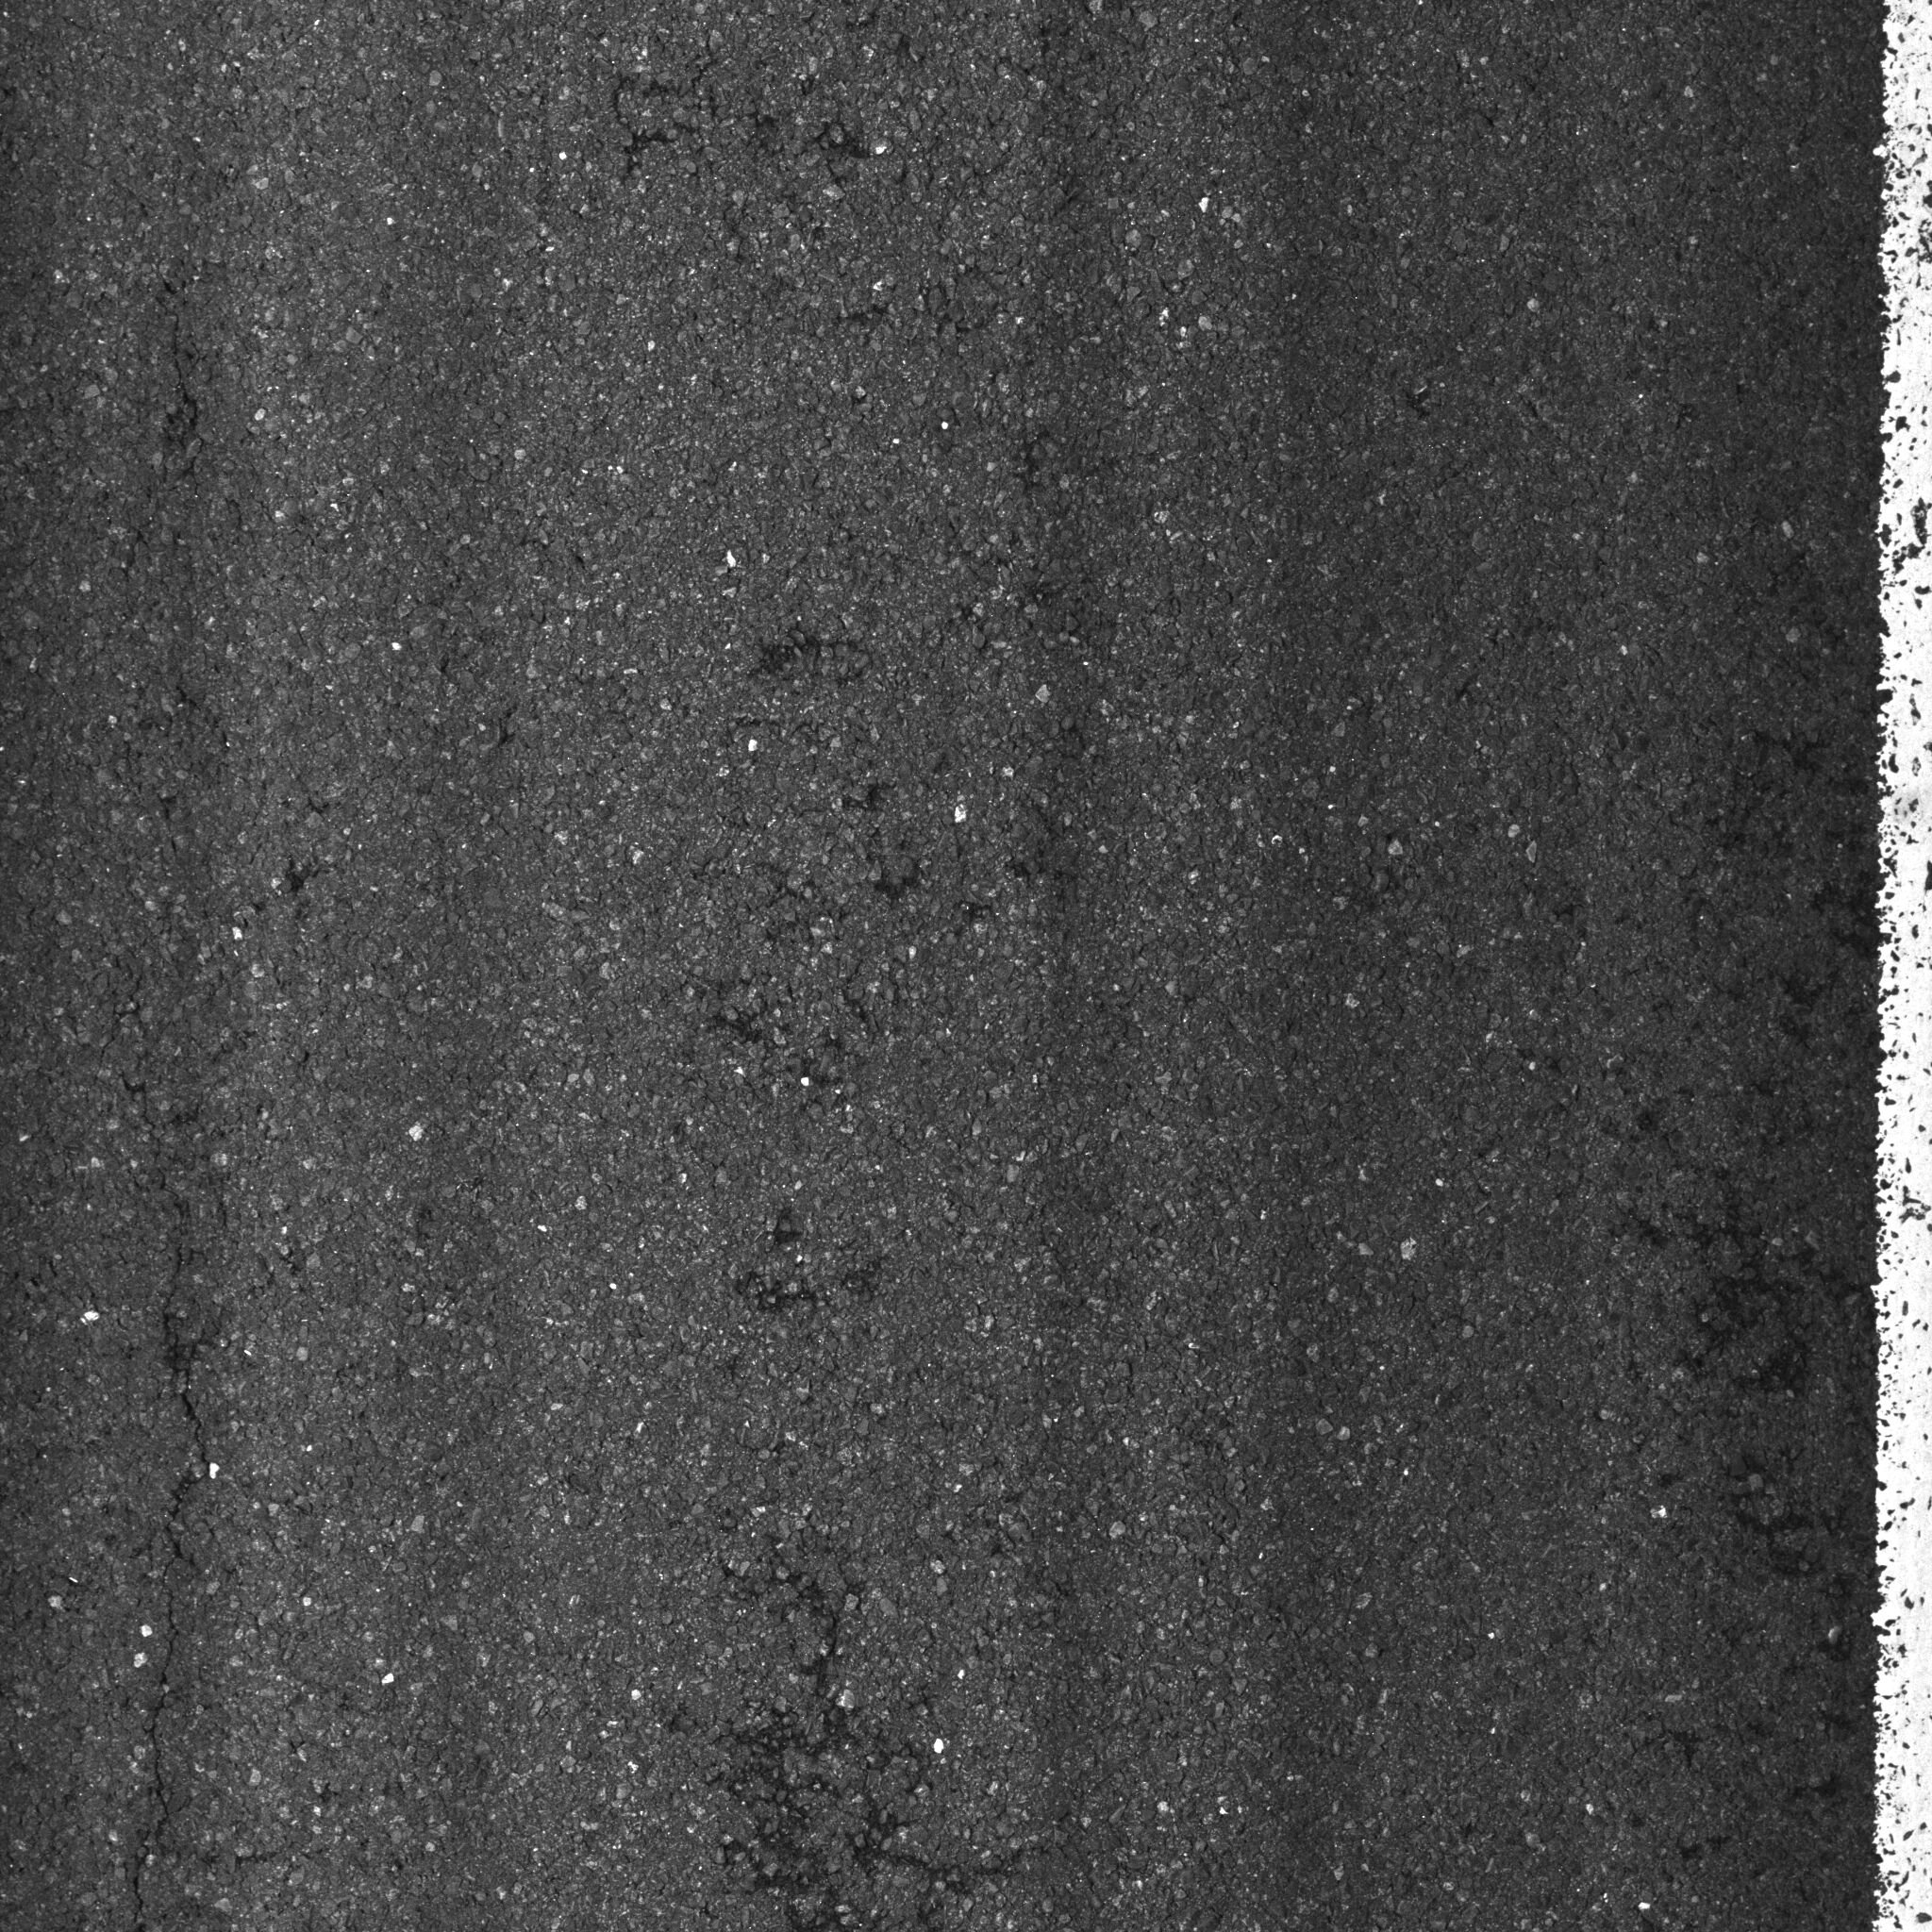longitudinal: (69, 30, 274, 1909)
